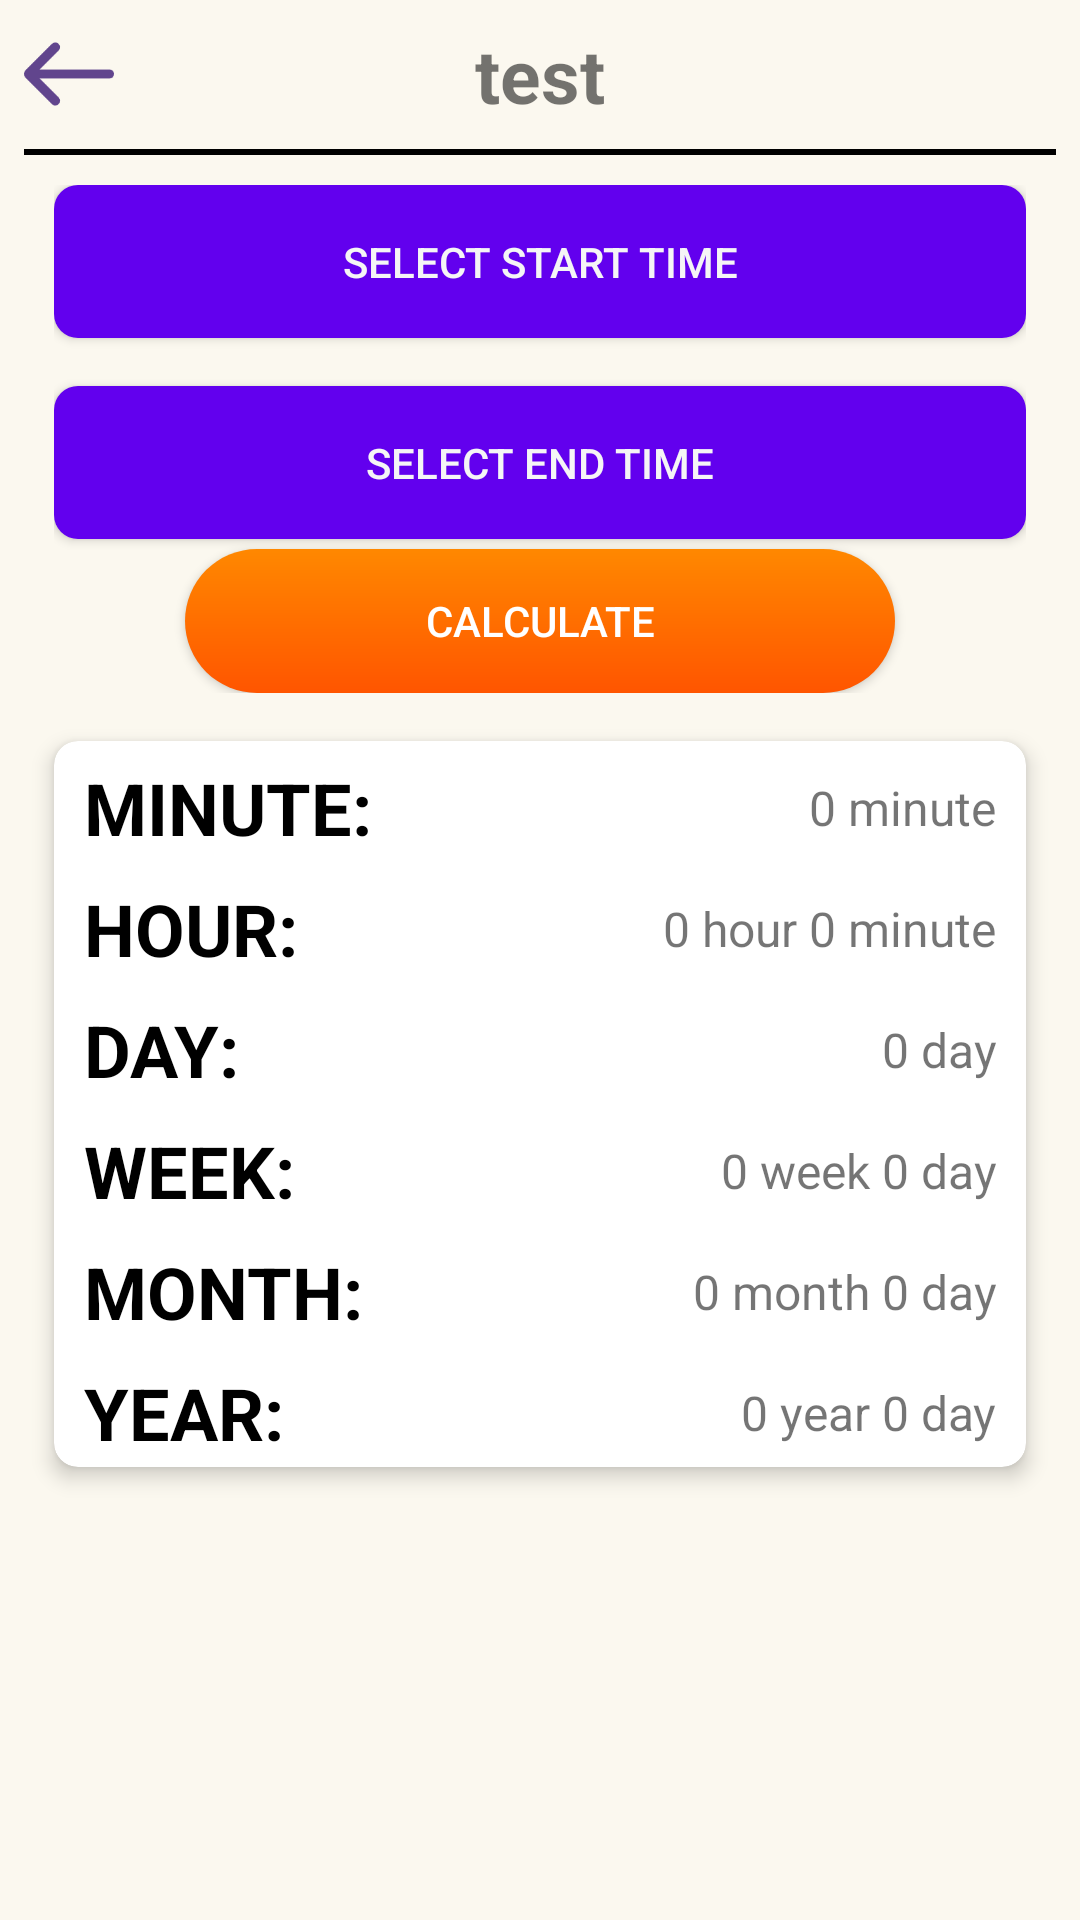

Point at icon controls on the screen. Image size 1080px×1920px, points as (x=x, y=y).
back: (x=69, y=74)
